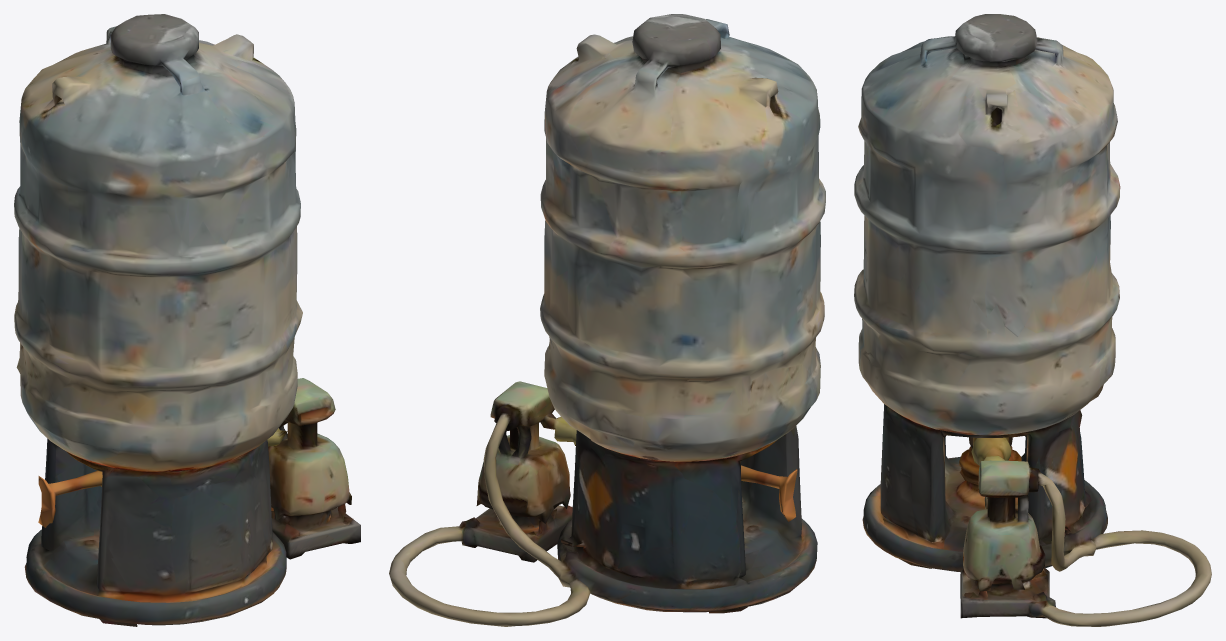
Rendered from water.glb.
3 views of the same model, side by side, from view 1: azimuth 30°, elevation 25°; view 2: azimuth 150°, elevation 25°; view 3: azimuth 270°, elevation 25° (orthographic). The views are drawn at different scales.
Visible parts, largest first — view 1: tripo_node_9776e2db-e8b3-4b8a-88e3-53c555bfdc1b; view 2: tripo_node_9776e2db-e8b3-4b8a-88e3-53c555bfdc1b; view 3: tripo_node_9776e2db-e8b3-4b8a-88e3-53c555bfdc1b.
Boxes of the visible parts, x1,y1,x2,y2 form: tripo_node_9776e2db-e8b3-4b8a-88e3-53c555bfdc1b: (14, 14, 360, 626); tripo_node_9776e2db-e8b3-4b8a-88e3-53c555bfdc1b: (389, 14, 825, 626); tripo_node_9776e2db-e8b3-4b8a-88e3-53c555bfdc1b: (854, 14, 1211, 626).
Size of the model in its own units: 0.6598 by 0.9994 by 0.6401.
1 material, 1 textured.
